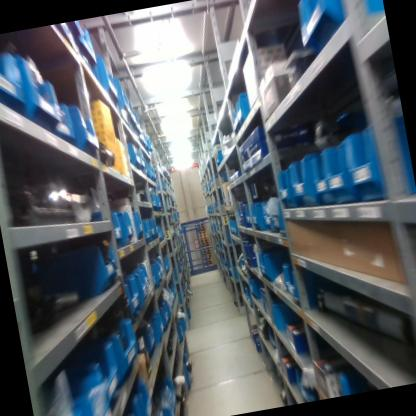pallet: (195, 228, 206, 235), (196, 232, 207, 238), (197, 237, 208, 242), (201, 253, 212, 258), (202, 256, 213, 261), (195, 225, 206, 230), (194, 219, 205, 224), (198, 235, 208, 240), (199, 239, 209, 244), (200, 243, 210, 248), (201, 248, 211, 253), (195, 222, 205, 227), (203, 259, 212, 264), (204, 262, 213, 267), (201, 246, 211, 250), (201, 251, 211, 255)
